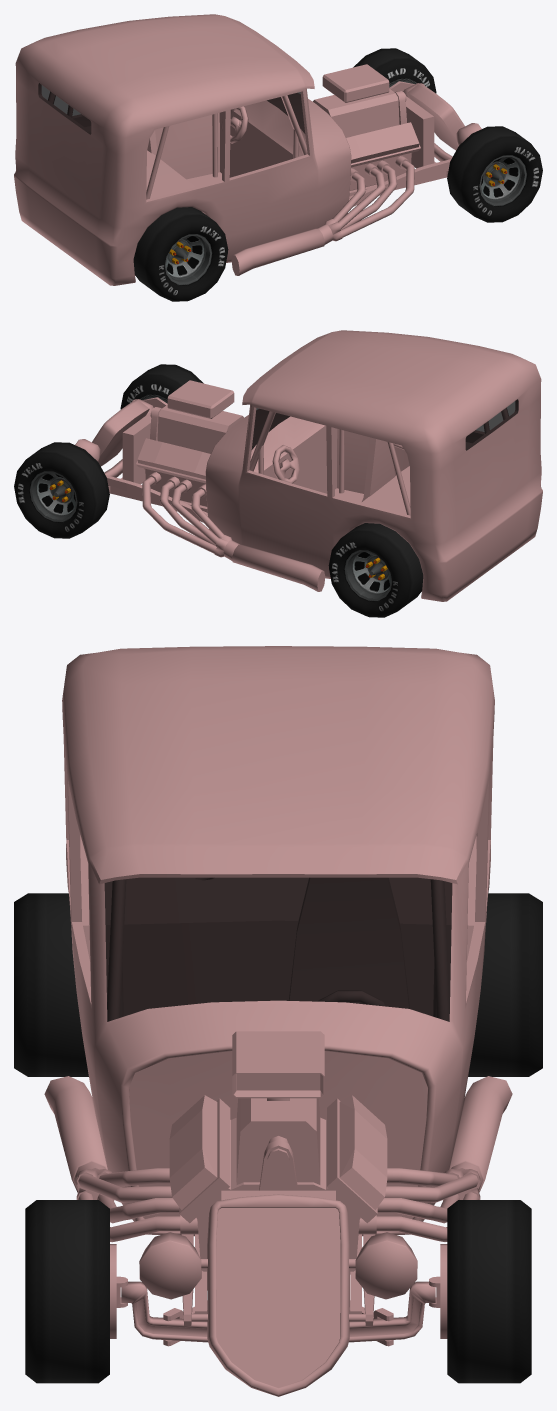
3 renders of one model, top to bottom at view 1: azimuth 30°, elevation 25°; view 2: azimuth 150°, elevation 25°; view 3: azimuth 270°, elevation 25°, orthographic. The views are drawn at different scales.
Visible parts, largest first — view 1: CarBody, TireFrontR, TireRearR, TireFrontL, Glass; view 2: CarBody, TireFrontL, TireRearL, TireFrontR, Glass; view 3: CarBody, Glass, TireFrontR, TireFrontL, TireRearR, TireRearL.
Boxes of the visible parts, x1,y1,x2,y2 form: CarBody: [14, 14, 481, 285]; TireFrontR: [447, 126, 542, 222]; TireRearR: [133, 207, 228, 301]; TireFrontL: [353, 48, 436, 93]; Glass: [38, 83, 305, 134]; CarBody: [75, 330, 542, 601]; TireFrontL: [14, 442, 109, 538]; TireRearL: [328, 523, 423, 617]; TireFrontR: [120, 364, 203, 409]; Glass: [251, 399, 518, 450]; CarBody: [44, 646, 512, 1396]; Glass: [104, 877, 452, 1021]; TireFrontR: [25, 1200, 109, 1383]; TireFrontL: [447, 1200, 531, 1383]; TireRearR: [14, 893, 88, 1076]; TireRearL: [468, 893, 542, 1076].
Bounding box in the file's own units: 243 × 108 × 134.
